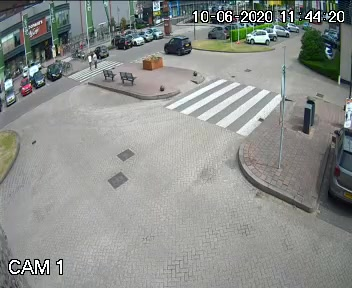car: (158, 32, 194, 58)
